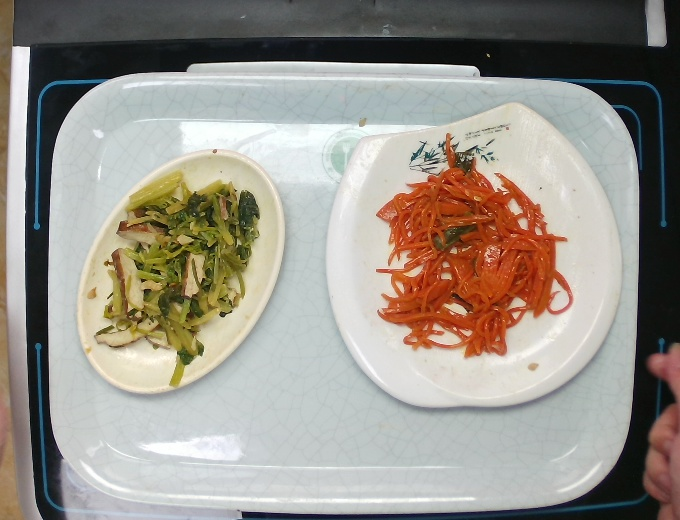JYsf-Mian_Pan: (320, 96, 628, 412)
JYsf-Tuo_Yuan_Wan: (69, 142, 295, 397)
